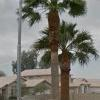Palm tree: (29, 2, 87, 94)
